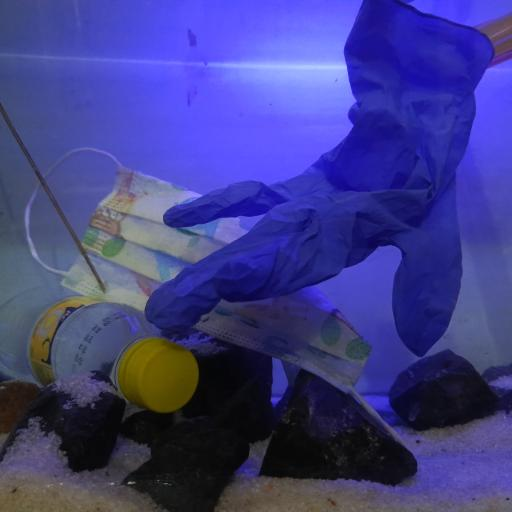bottle_cap: (125, 338, 202, 414)
glove: (145, 0, 497, 357)
mask: (25, 146, 376, 412)
plastic_bottle: (1, 276, 200, 414)
plastic_straw: (478, 17, 512, 54)
